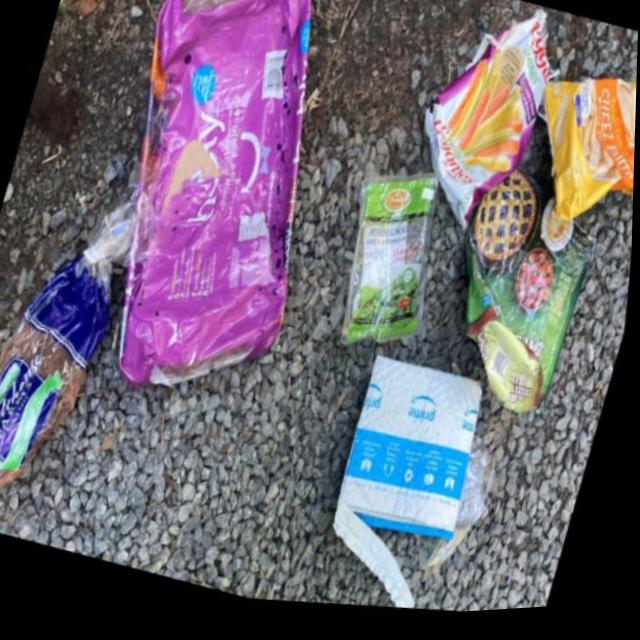metal: (57, 0, 374, 440), (0, 183, 140, 559), (311, 354, 509, 617), (418, 206, 608, 429), (317, 136, 479, 385), (406, 0, 561, 239), (516, 32, 639, 255)
